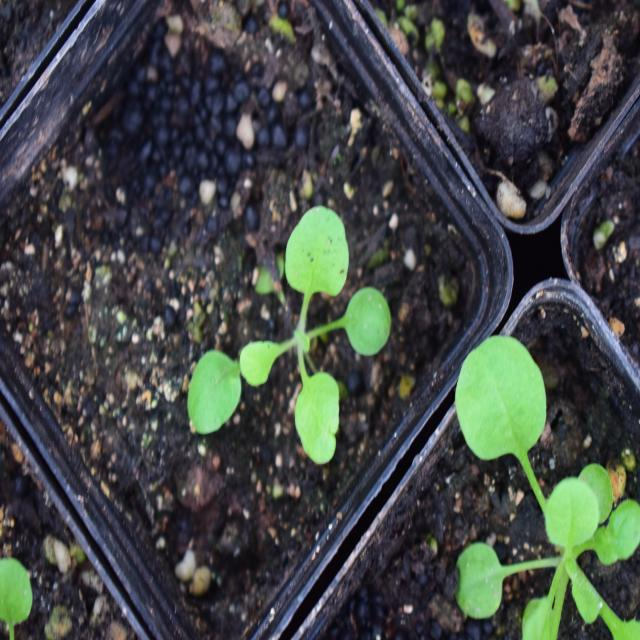Shepherd_Purse: (166, 209, 386, 483), (453, 348, 640, 638)
